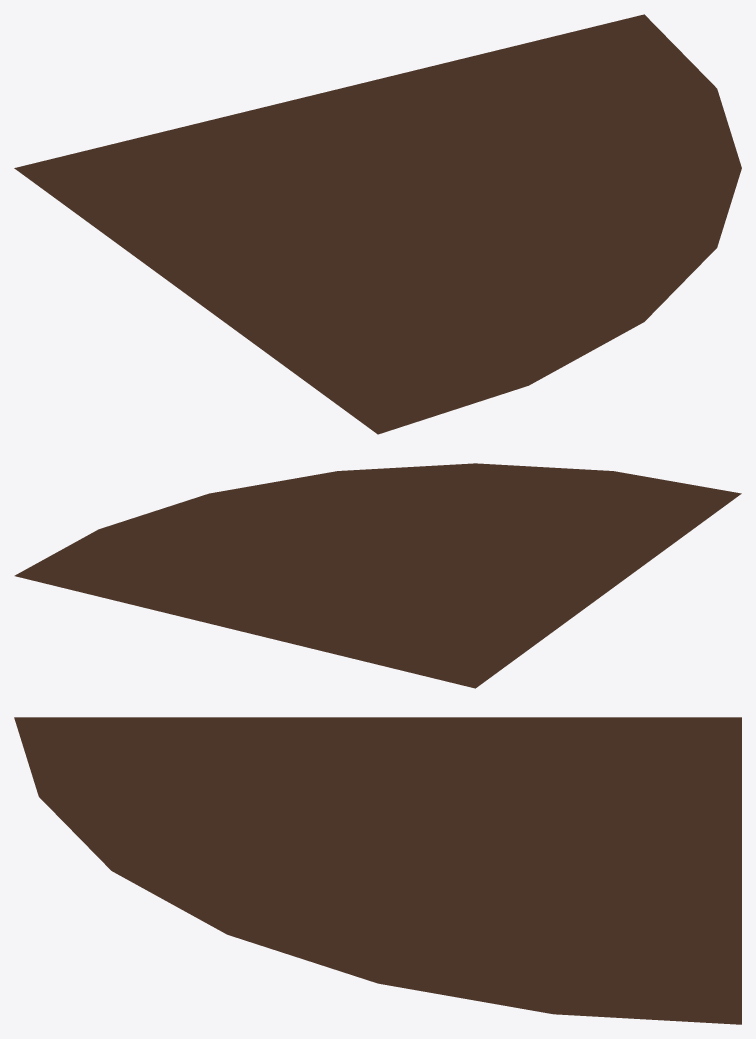
File: 2x2_RoundedPlatform.FBX
3 renders of one model, top to bottom at view 1: azimuth 30°, elevation 25°; view 2: azimuth 150°, elevation 25°; view 3: azimuth 270°, elevation 25°, orthographic. The views are drawn at different scales.
Parts seen in each view (by area): view 1: 2x2_RoundedPlatform; view 2: 2x2_RoundedPlatform; view 3: 2x2_RoundedPlatform.
Boxes of the visible parts, box(x1,y1,x2,y2) form: 2x2_RoundedPlatform: box(14, 14, 741, 434); 2x2_RoundedPlatform: box(14, 463, 741, 688); 2x2_RoundedPlatform: box(14, 717, 741, 1024).
Size of the model in its own units: 200 by 1.22e-14 by 200.
